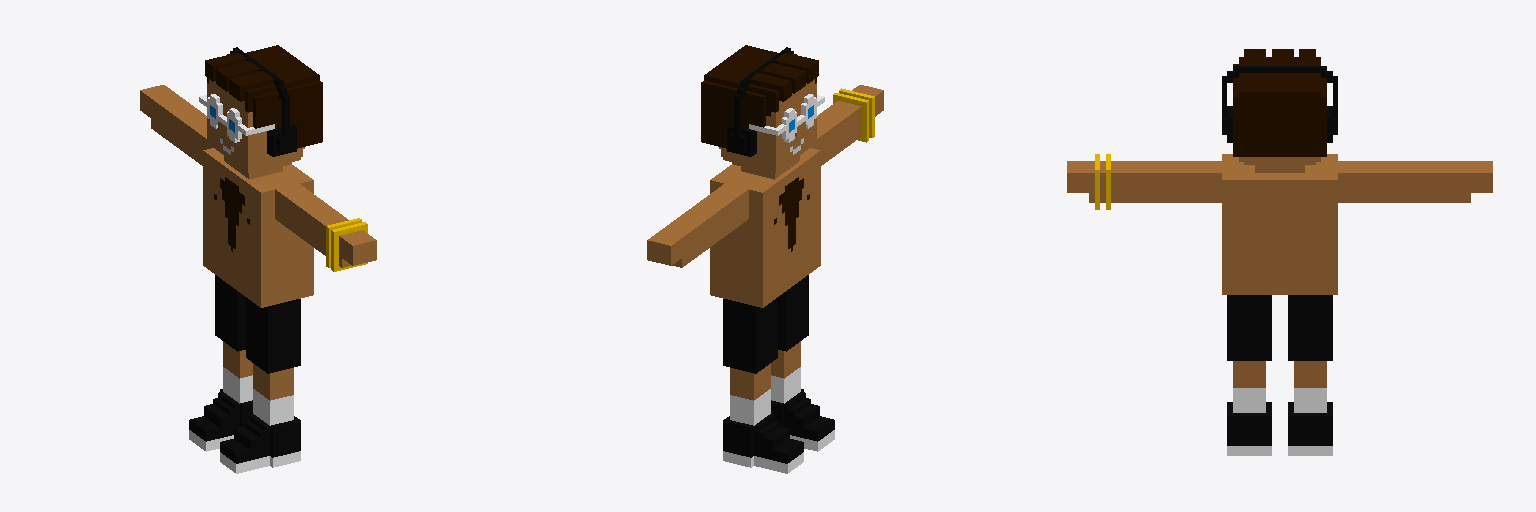
The picture shows the model from 3 angles: view 1: azimuth 30°, elevation 25°; view 2: azimuth 150°, elevation 25°; view 3: azimuth 270°, elevation 25°; orthographic projection.
Visible parts, largest first — view 1: object 1; view 2: object 1; view 3: object 1.
Boxes of the visible parts, x1=… form: object 1: x1=140, y1=45, x2=376, y2=473; object 1: x1=647, y1=45, x2=883, y2=473; object 1: x1=1067, y1=49, x2=1492, y2=455.
Size of the model in its own units: 1.8 by 7.6 by 7.7.
Materials: 1 (1 with a texture image).